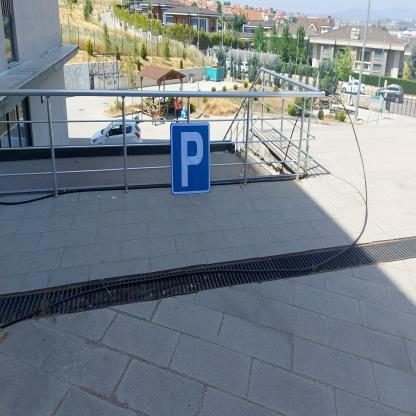parking: (169, 122, 210, 196)
